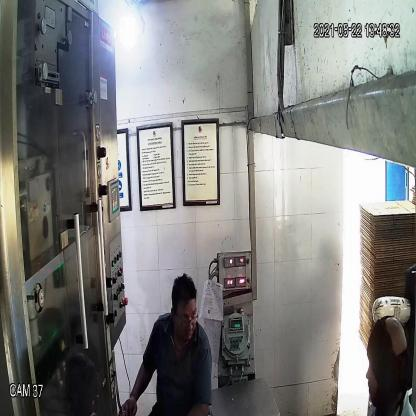goggles: (170, 305, 200, 329)
